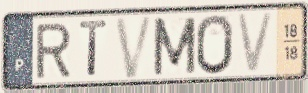M: (151, 15, 198, 77)
O: (194, 13, 235, 77)
R: (34, 21, 73, 81)
T: (78, 18, 109, 79)
V: (113, 13, 157, 81), (234, 9, 277, 76)
